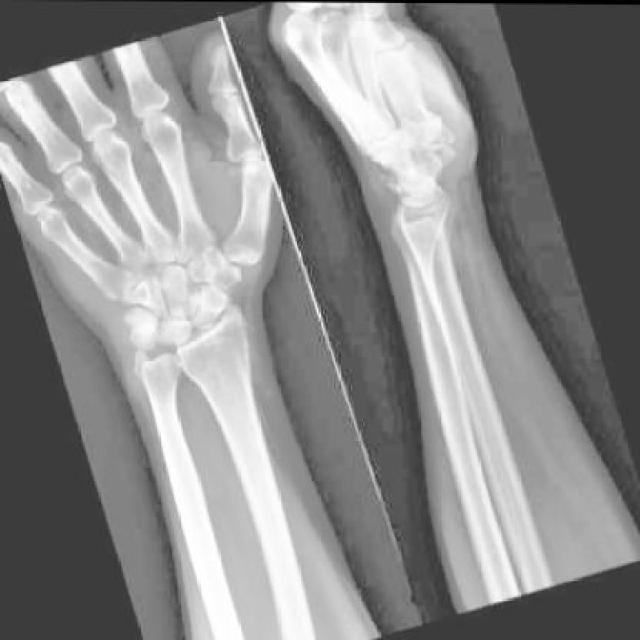Fracture: (377, 163, 408, 196), (129, 317, 162, 347)
